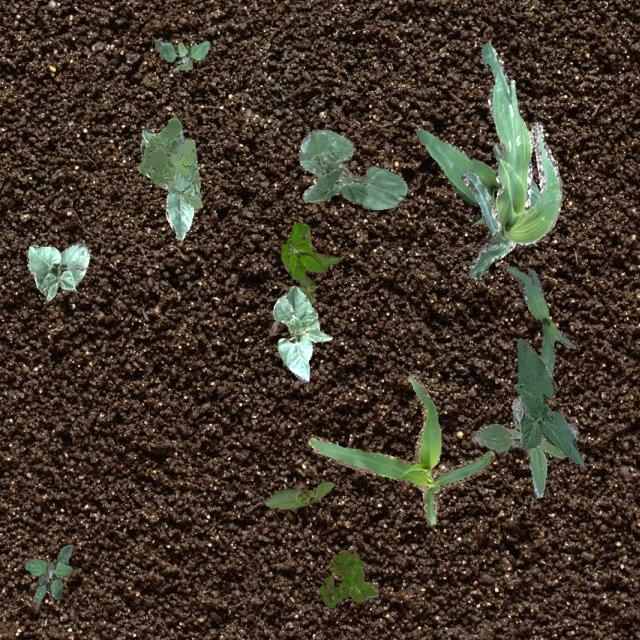crop: (306, 372, 494, 524), (459, 41, 562, 278), (414, 127, 538, 226), (514, 336, 584, 466), (298, 128, 407, 208), (506, 266, 574, 374), (138, 128, 194, 240), (272, 284, 331, 382), (26, 242, 88, 300), (306, 130, 341, 192), (264, 481, 334, 508)
weed: (470, 394, 578, 496), (137, 116, 200, 208), (280, 222, 338, 304), (318, 548, 377, 606), (24, 544, 72, 602), (154, 40, 208, 68)
